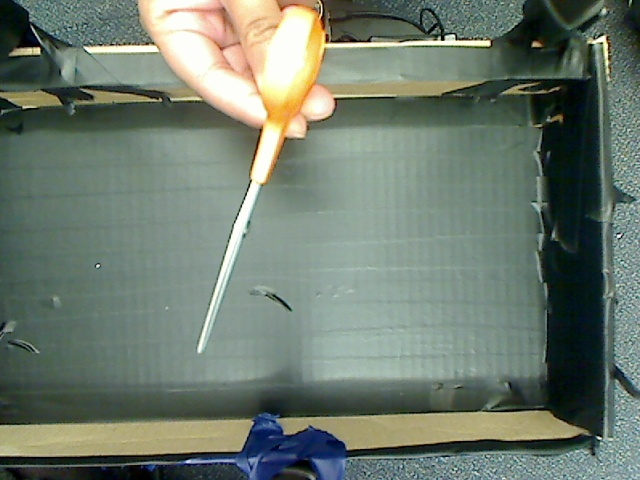scissors: (171, 1, 327, 369)
